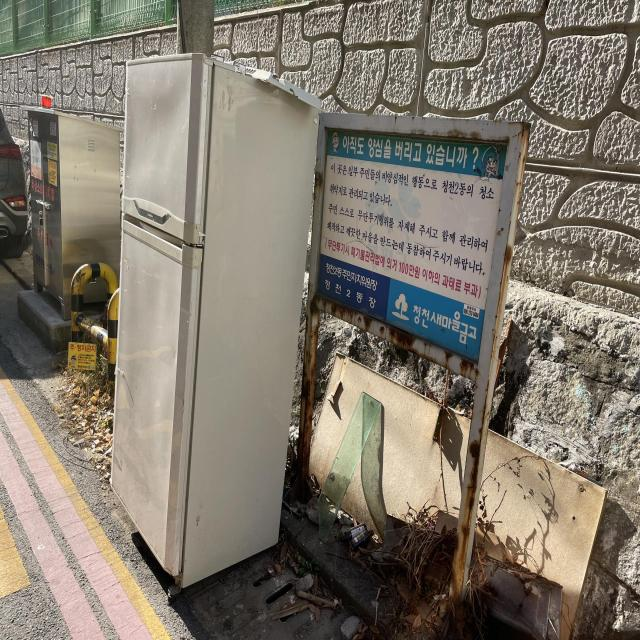refrigerator: (106, 47, 322, 600)
